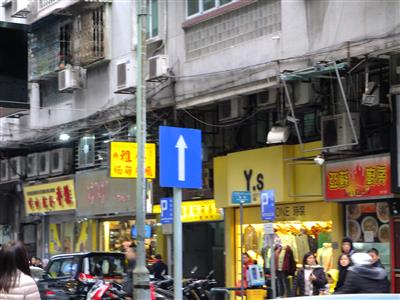oneway: (153, 117, 210, 193)
